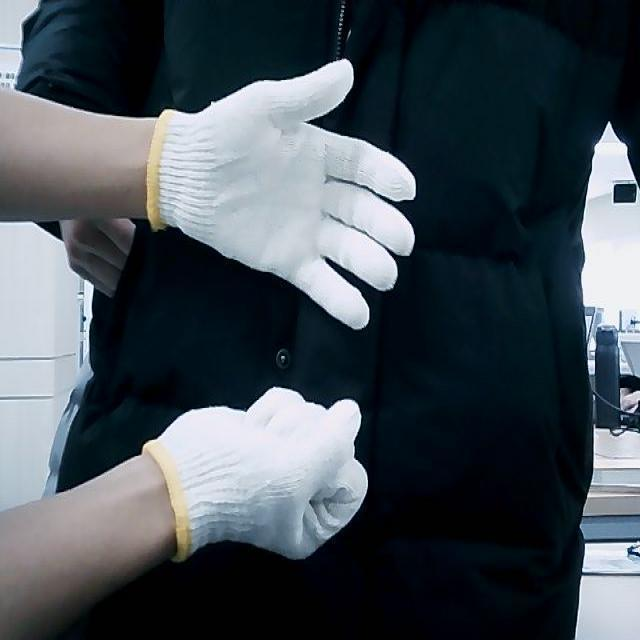gloves: (144, 59, 418, 335), (144, 386, 372, 563)
